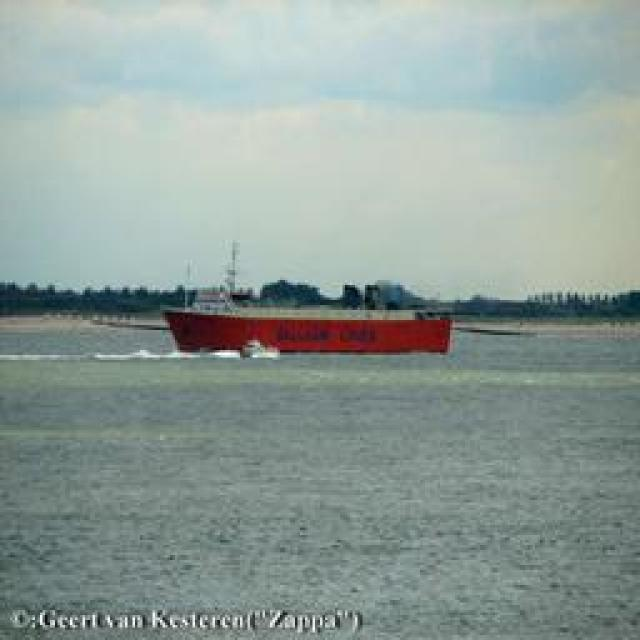CIV_Ship: (164, 306, 456, 359)
